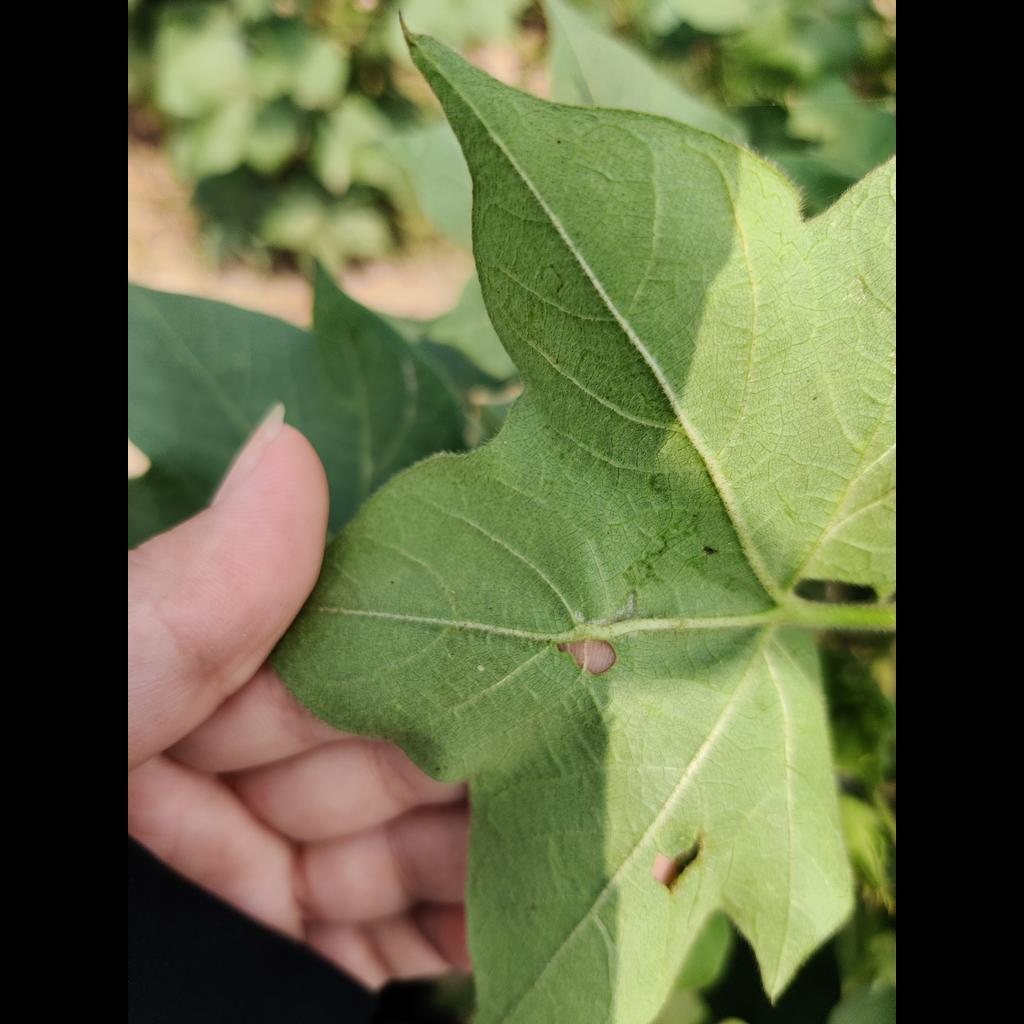nymph: (477, 664, 486, 673)
